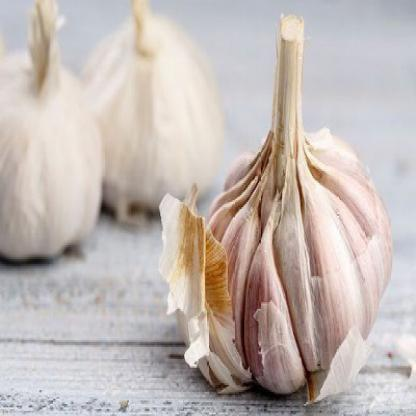garlic: (187, 142, 406, 376)
